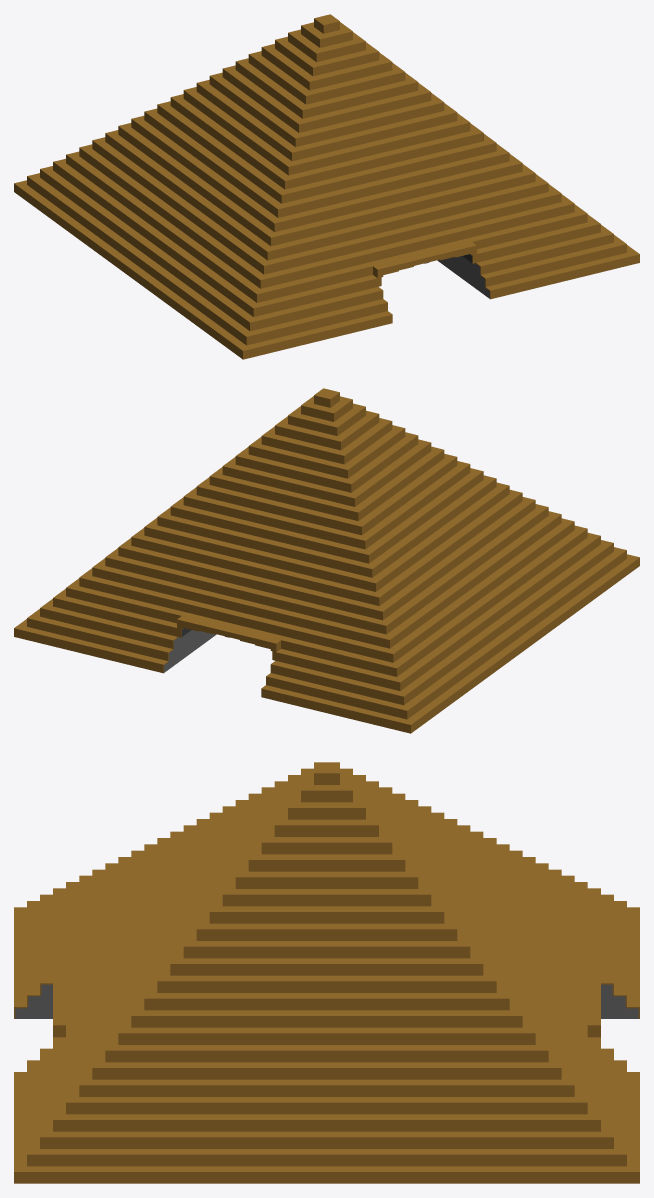
File: prop_pyramide1.obj
The picture shows the model from 3 angles, top to bottom: view 1: azimuth 30°, elevation 25°; view 2: azimuth 150°, elevation 25°; view 3: azimuth 270°, elevation 25°; orthographic projection. The views are drawn at different scales.
Visible parts, largest first — view 1: prop_pyramide_t1-5; view 2: prop_pyramide_t1-5; view 3: prop_pyramide_t1-5.
Boxes of the visible parts, bbox=[...] form: prop_pyramide_t1-5: bbox=[14, 14, 639, 359]; prop_pyramide_t1-5: bbox=[14, 388, 639, 733]; prop_pyramide_t1-5: bbox=[14, 762, 639, 1183].
Size of the model in its own units: 48 by 24 by 48.
2 materials, 2 textured.
